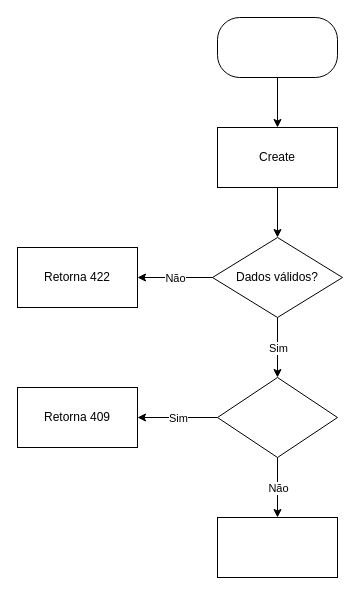
Some shapes in this 360 by 595 pixel diagram are drawn without their labels. The centre of each missing label's shape, as x and y in pixels:
Planet: the point at 277,47
Planeta Existe?: the point at 277,417
